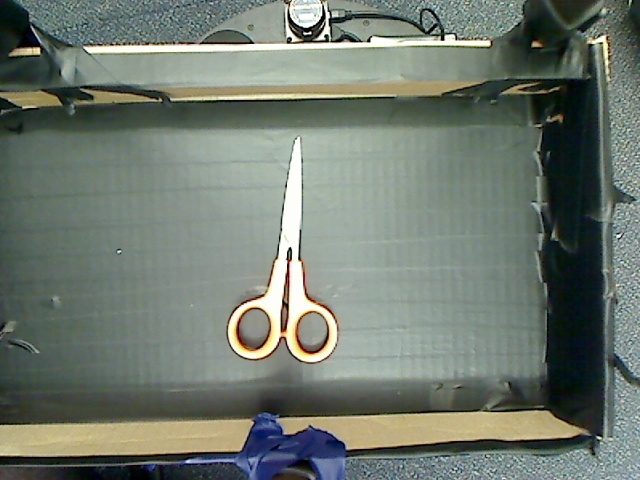scissors: (224, 113, 346, 376)
